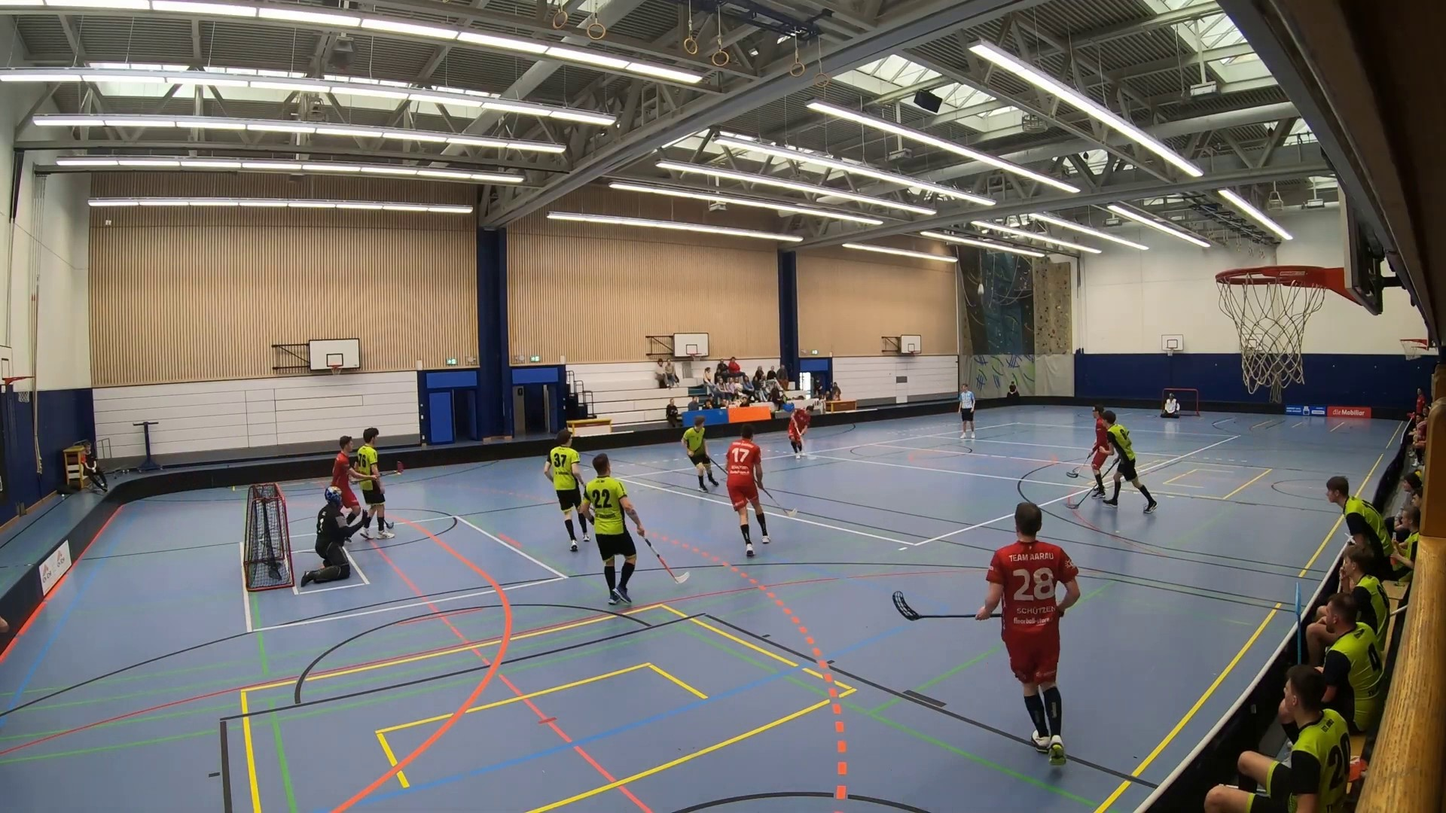goalkeeper: (308, 488, 363, 604), (1158, 383, 1184, 420)
player: (966, 502, 1093, 778), (574, 452, 676, 628), (1101, 414, 1184, 534), (717, 429, 787, 565), (542, 422, 597, 550), (315, 417, 368, 517), (1073, 401, 1123, 502), (671, 410, 725, 498), (356, 415, 392, 542), (769, 387, 822, 467)
